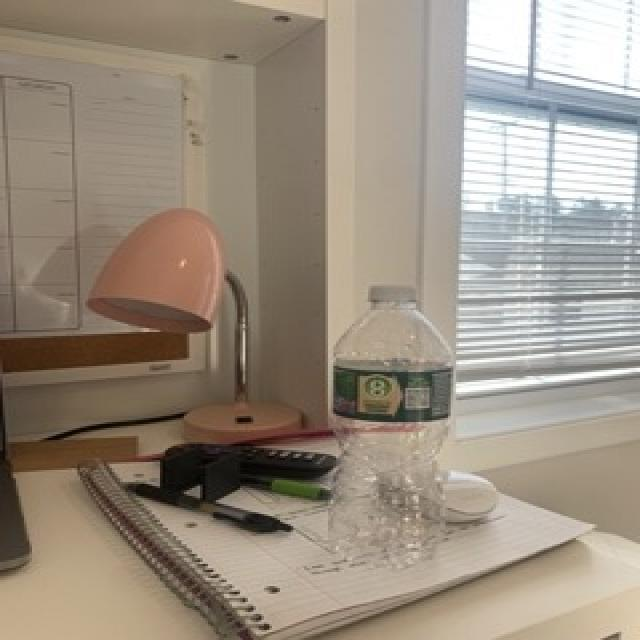water_bottle: (317, 281, 458, 573)
